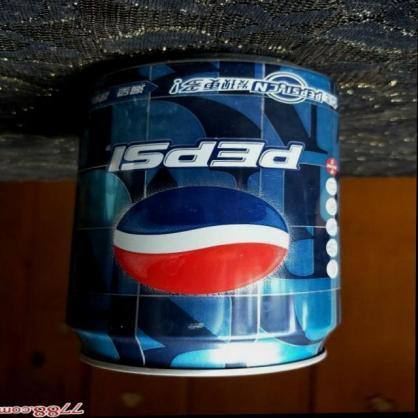can: (67, 49, 344, 381)
